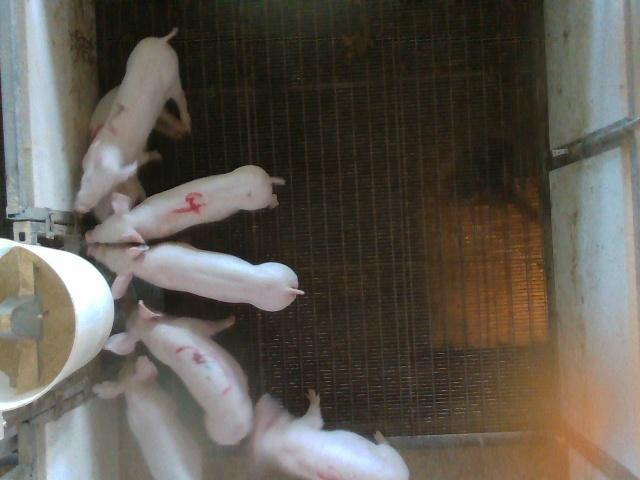pig-1: (251, 390, 409, 479)
pig-2: (75, 30, 190, 212)
pig-3: (105, 301, 252, 445)
pig-4: (86, 165, 284, 243)
